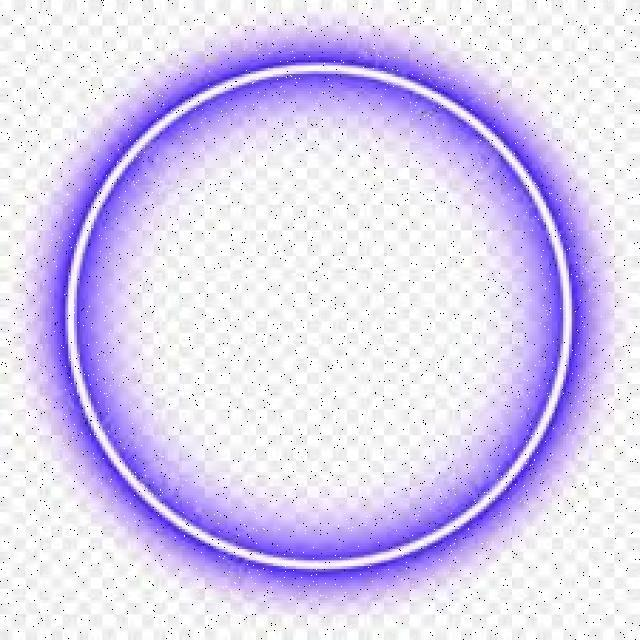Circle: (64, 58, 573, 569)
